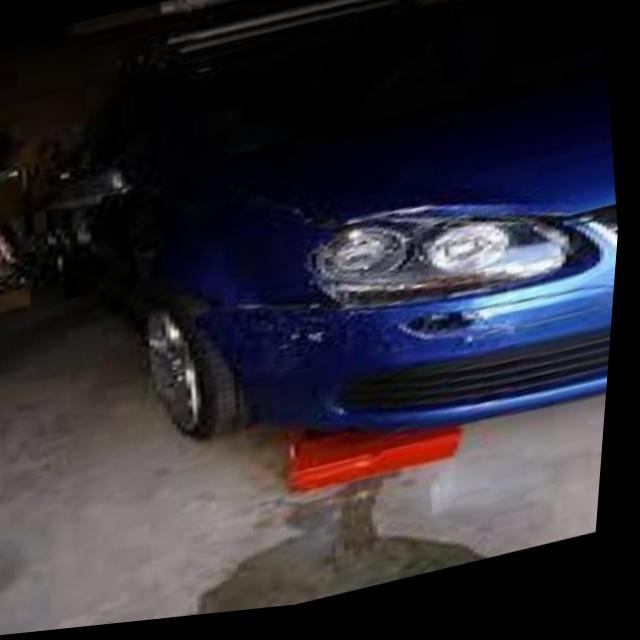crack: (281, 330, 352, 351)
lamp broken: (241, 210, 610, 321)
no part: (405, 325, 486, 350)
